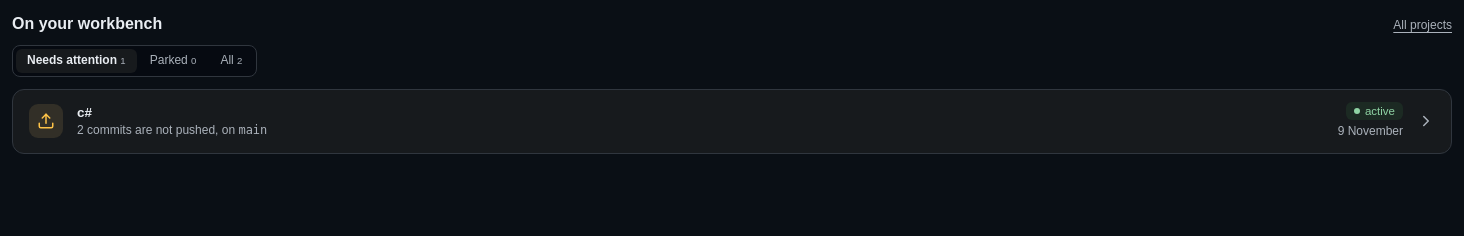
the workbench links keys that need encoding in every choice
The width and height of the screenshot is (1464, 236).
Click the button "All 2". click: (231, 61)
box: [209,49,253,73]
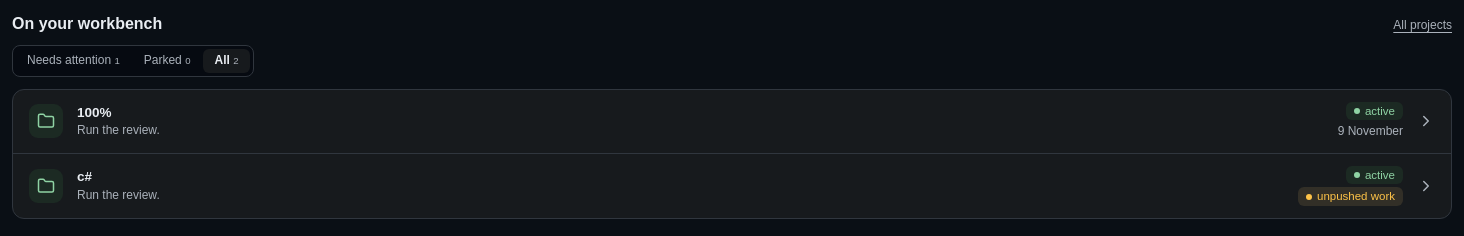
Expected: the link "c# Run the review. active unpushed work" is shown, [13,154,1451,218]
